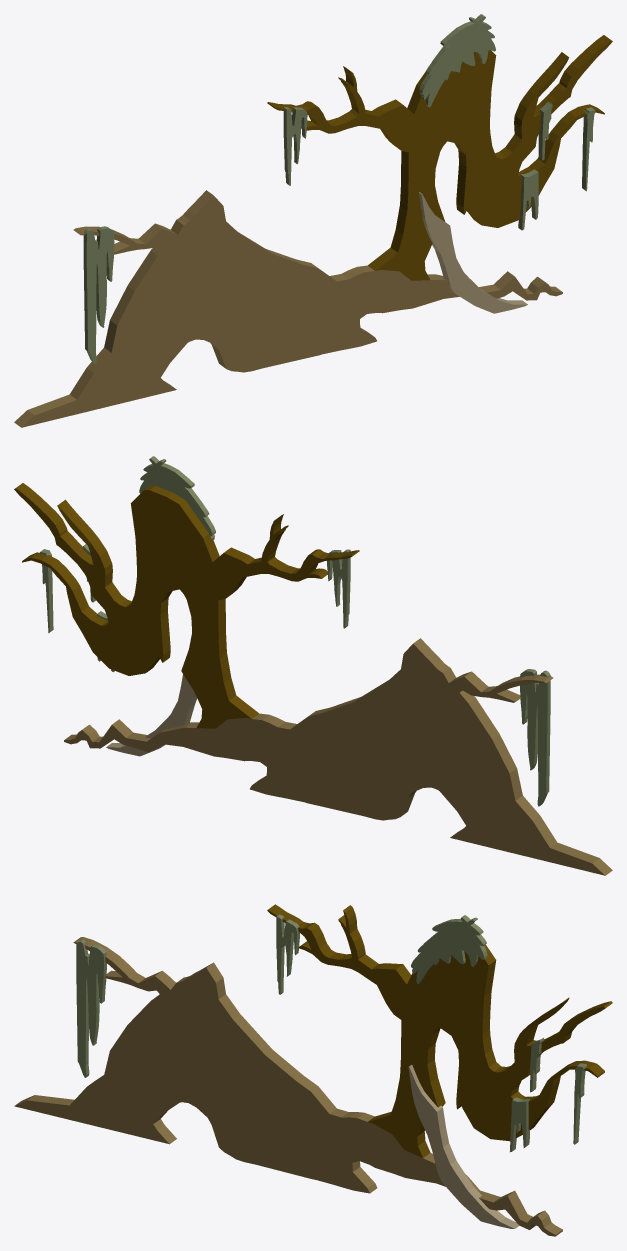
File: Wood_Log_6.fbx
3 renders of one model, top to bottom at view 1: azimuth 30°, elevation 25°; view 2: azimuth 150°, elevation 25°; view 3: azimuth 330°, elevation 25°, orthographic.
Parts seen in each view (by area): view 1: pPlane33, pPlane39, pPlane35, pPlane34, pPlane40, pPlane38, pPlane37; view 2: pPlane33, pPlane39, pPlane35, pPlane34, pPlane40, pPlane37; view 3: pPlane33, pPlane34, pPlane39, pPlane35, pPlane40, pPlane38, pPlane37, pPlane36.
Part boxes in pixels (x1,y1,x2,y2): pPlane33: (14,35,612,427); pPlane39: (83,226,114,363); pPlane35: (419,14,495,107); pPlane34: (419,192,527,313); pPlane40: (283,107,307,185); pPlane38: (518,169,538,230); pPlane37: (582,107,595,191); pPlane33: (14,483,612,875); pPlane39: (520,669,550,806); pPlane35: (139,456,215,539); pPlane34: (106,674,197,756); pPlane40: (327,549,350,628); pPlane37: (40,549,53,633); pPlane33: (14,904,612,1236); pPlane34: (408,1064,518,1228); pPlane39: (76,939,106,1077); pPlane35: (411,915,487,984); pPlane40: (276,914,299,994); pPlane38: (510,1097,529,1151); pPlane37: (573,1063,586,1144); pPlane36: (530,1037,544,1092).
Bounding box in the file's own units: 2.65 × 1.29 × 0.0819.
